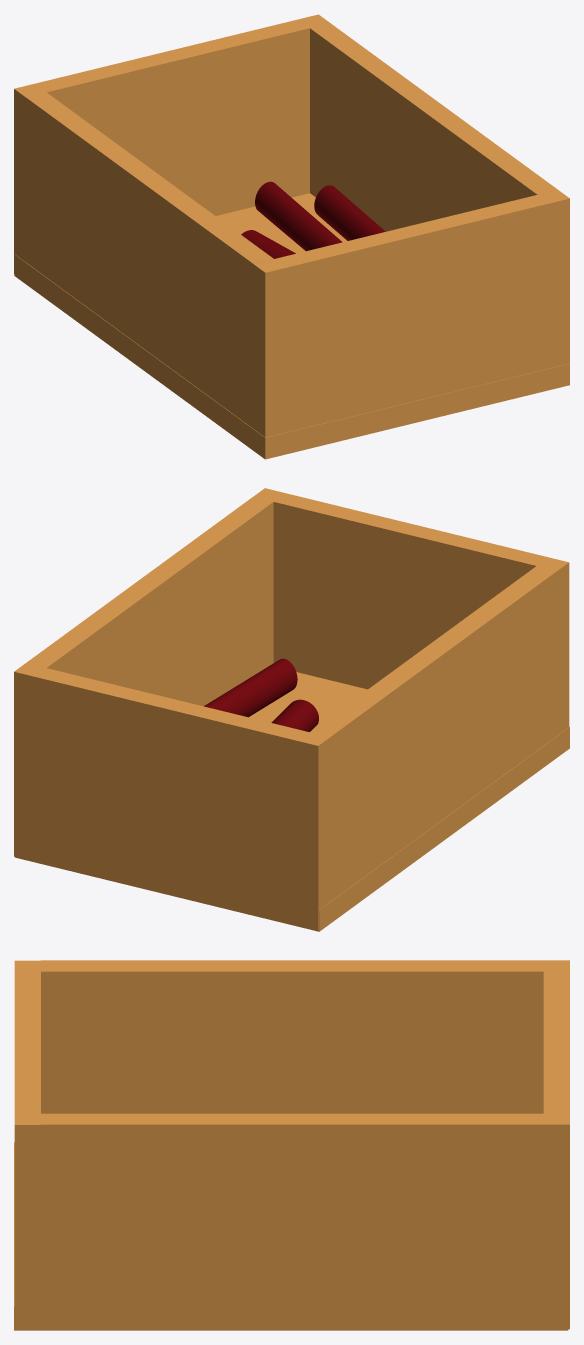
3 views of the same model, one above another, from view 1: azimuth 30°, elevation 25°; view 2: azimuth 150°, elevation 25°; view 3: azimuth 270°, elevation 25° (orthographic). The views are drawn at different scales.
Parts seen in each view (by area): view 1: Cube.001, Cube.003, Cube.002, Cube.004, Cube, Cylinder.002, Cylinder.003, Cylinder; view 2: Cube.002, Cube.003, Cube.001, Cube.004, Cube, Cylinder.003, Cylinder; view 3: Cube.004, Cube.003, Cube.001, Cube.002, Cube.
Boxes of the visible parts, x1,y1,x2,y2 form: Cube.001: [253, 190, 569, 437]; Cube.003: [26, 92, 273, 428]; Cube.002: [14, 14, 330, 273]; Cube.004: [310, 23, 557, 231]; Cube: [14, 193, 569, 459]; Cylinder.002: [255, 181, 342, 251]; Cylinder.003: [314, 185, 385, 240]; Cylinder: [241, 230, 295, 258]; Cube.002: [14, 663, 330, 930]; Cube.003: [310, 566, 557, 901]; Cube.001: [254, 488, 569, 735]; Cube.004: [26, 496, 273, 706]; Cube: [15, 672, 569, 931]; Cylinder.003: [204, 658, 297, 717]; Cylinder: [271, 699, 318, 731]; Cube.004: [40, 1113, 552, 1329]; Cube.003: [40, 960, 543, 1113]; Cube.001: [14, 960, 40, 1329]; Cube.002: [543, 960, 569, 1329]; Cube: [14, 1142, 568, 1330].
Size of the model in its own units: 140 by 82.04 by 201.
